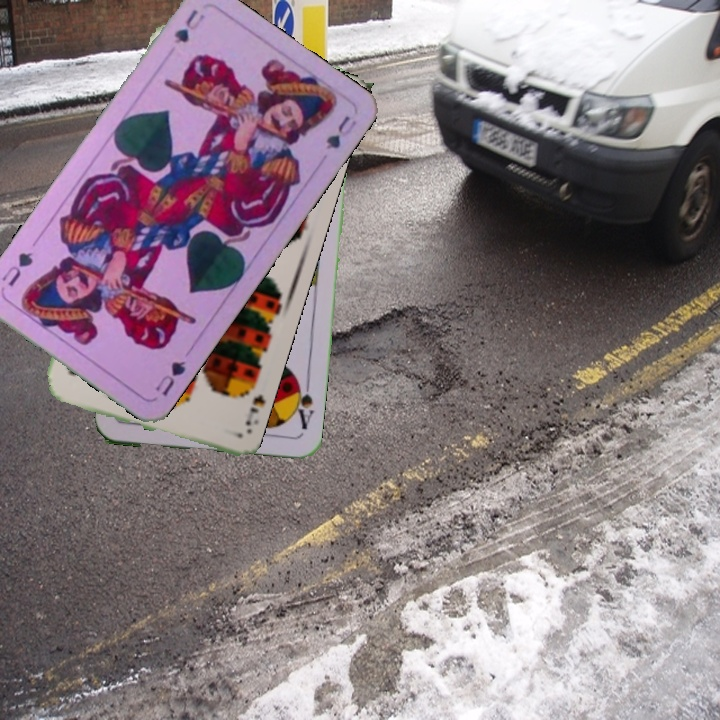GU: (151, 356, 189, 399), (169, 5, 207, 47)
S9: (238, 375, 261, 428)
SA: (288, 378, 316, 432)
